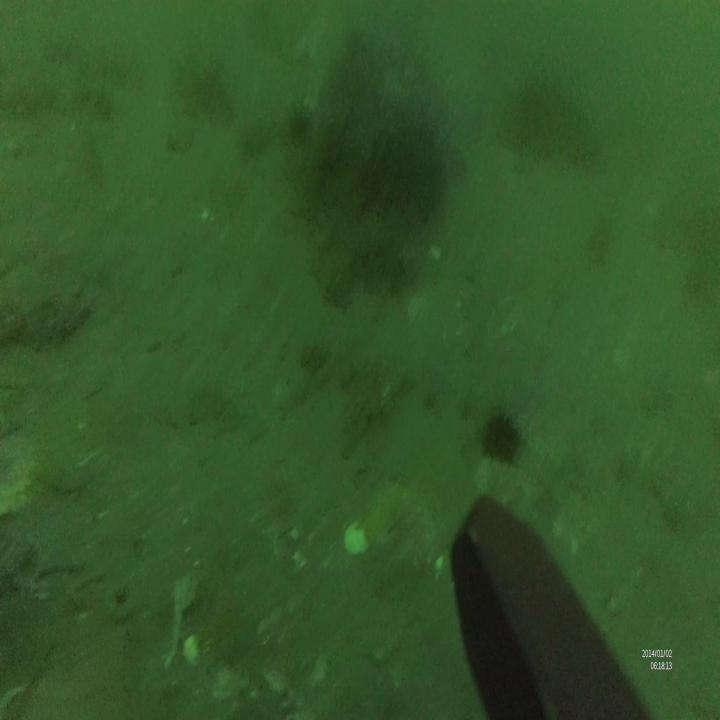echinus: (480, 409, 524, 470), (288, 103, 316, 148)
